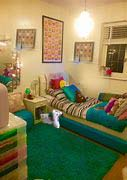copymove: (14, 29, 35, 50)
removal: (75, 65, 91, 78)
spliced: (38, 108, 63, 127)
